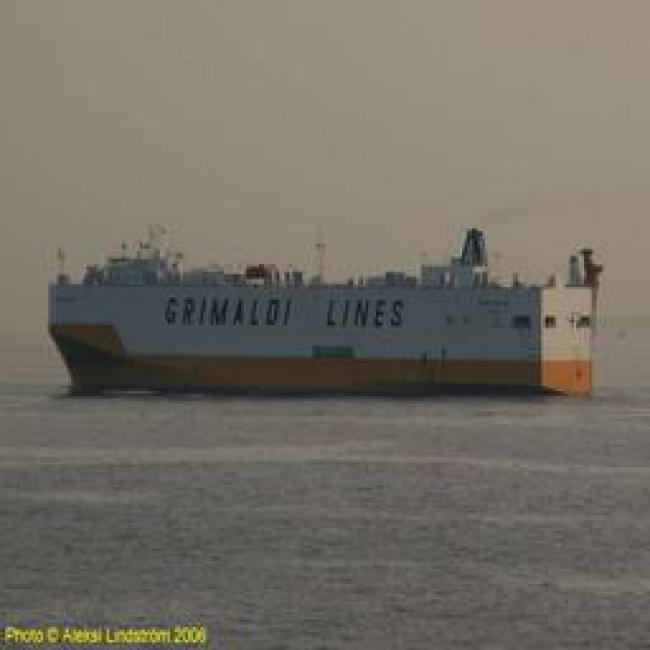Ship: (50, 250, 609, 414)
